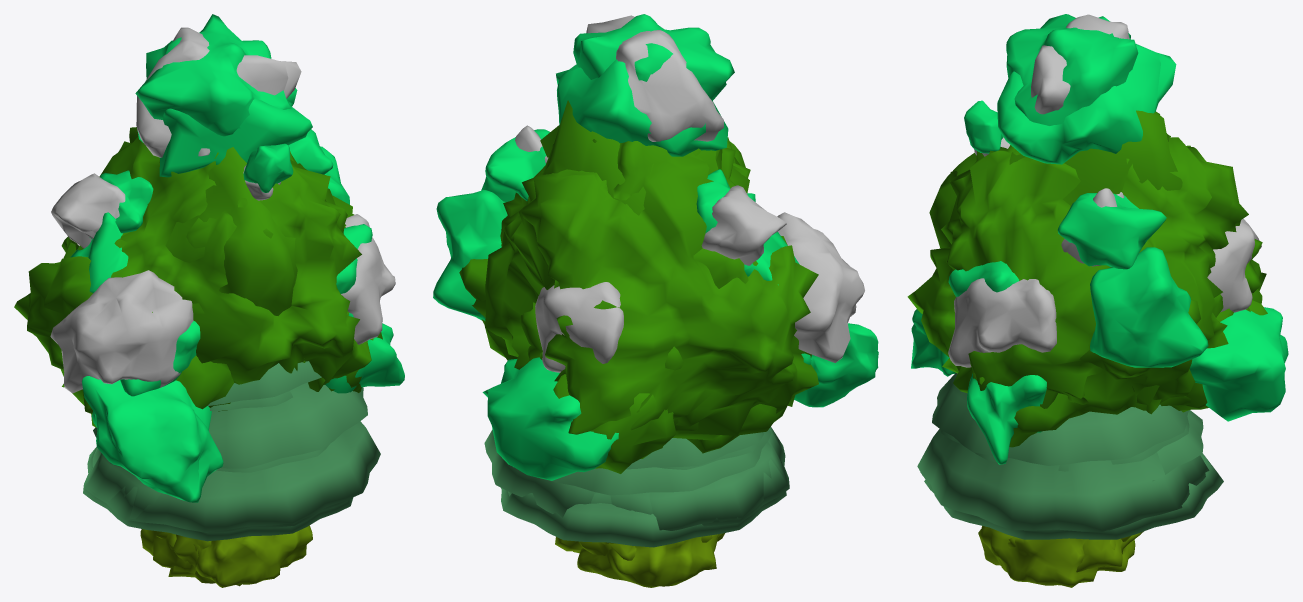
The model's file is ToonWorldAssets.fbx.
3 views of the same model, side by side, from view 1: azimuth 30°, elevation 25°; view 2: azimuth 150°, elevation 25°; view 3: azimuth 270°, elevation 25° (orthographic). The views are drawn at different scales.
Visible parts, largest first — view 1: tree3, tree_fir_large (×3), tree1, tree2, tree, tree5, bush_2, bush_1; view 2: tree3, tree2, tree_fir_large (×3), tree1, tree5, tree, bush_2, bush_1; view 3: tree3, tree2, tree_fir_large (×3), tree, tree5, tree1, bush_2, bush_1.
Boxes of the visible parts, x1,y1,x2,y2 form: tree3: (14,127,382,414); tree_fir_large (×3): (83,361,380,541); tree1: (50,27,395,393); tree2: (70,47,404,502); tree: (89,14,372,396); tree5: (75,147,379,427); bush_2: (140,525,312,587); bush_1: (156,531,241,586); tree3: (472,137,818,440); tree2: (433,59,878,480); tree_fir_large (×3): (484,427,789,547); tree1: (515,15,864,372); tree5: (459,100,793,473); tree: (481,14,811,364); bush_2: (573,533,724,587); bush_1: (555,533,724,569); tree3: (907,111,1266,414); tree2: (911,44,1288,464); tree_fir_large (×3): (917,373,1223,539); tree: (948,14,1166,296); tree5: (929,110,1267,447); tree1: (948,14,1261,367); bush_2: (978,526,1143,587); bush_1: (1008,532,1140,572).
Bounding box in the file's own units: 966 × 1432 × 933.
